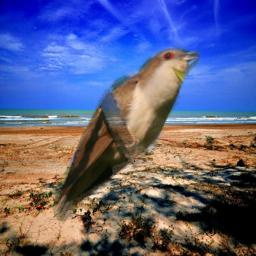Cuckoo: (47, 47, 200, 226)
